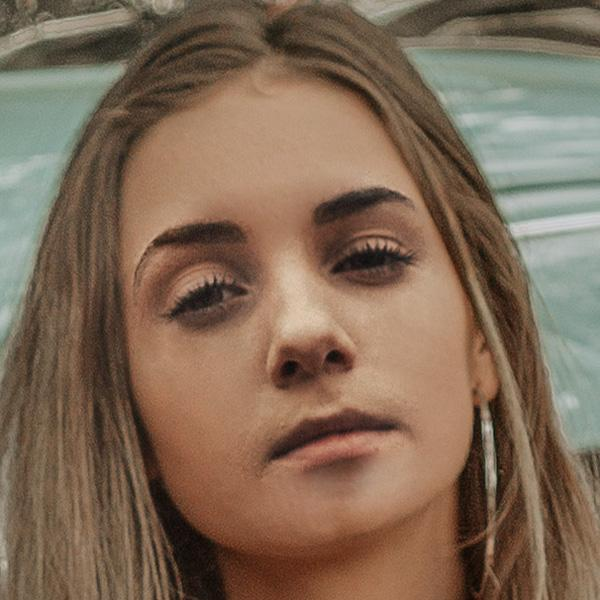Eyes: (153, 252, 261, 337), (311, 221, 425, 298)
